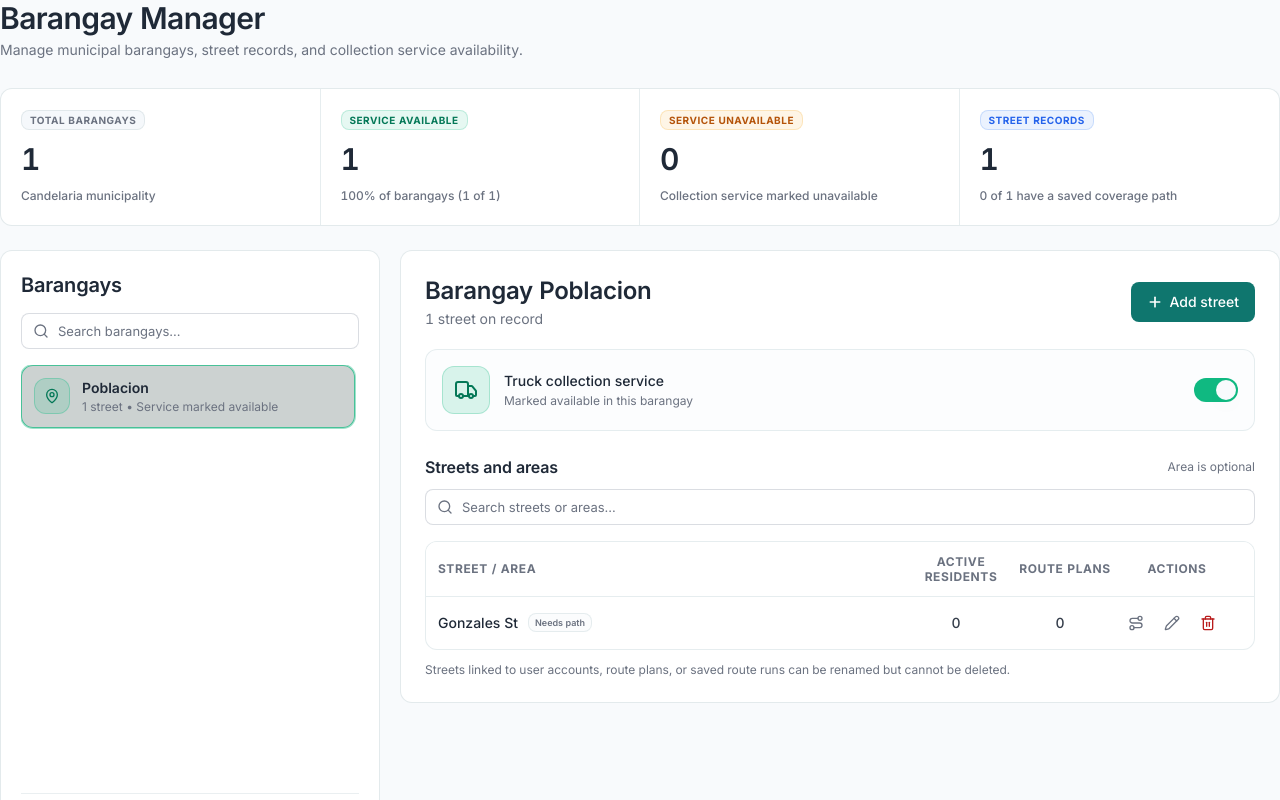
Test: street editor unsaved changes › retains failed submissions and closes a successful save directly
The width and height of the screenshot is (1280, 800).
Step 1. Click the button "Add street" → click(1193, 302), box [1132,282,1255,322]
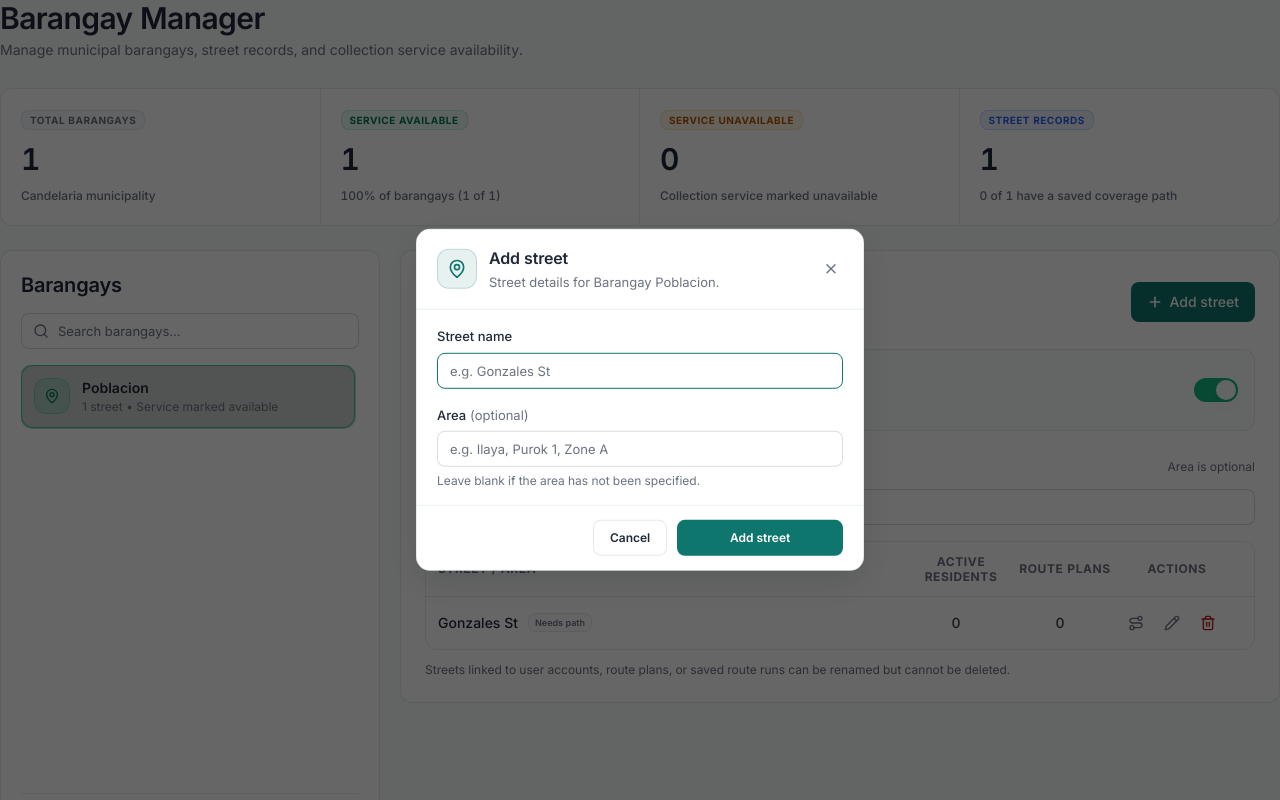
Step 2. Type "New street" into the field with id "barangay-street-name" → (640, 370), box [437,352,843,388]
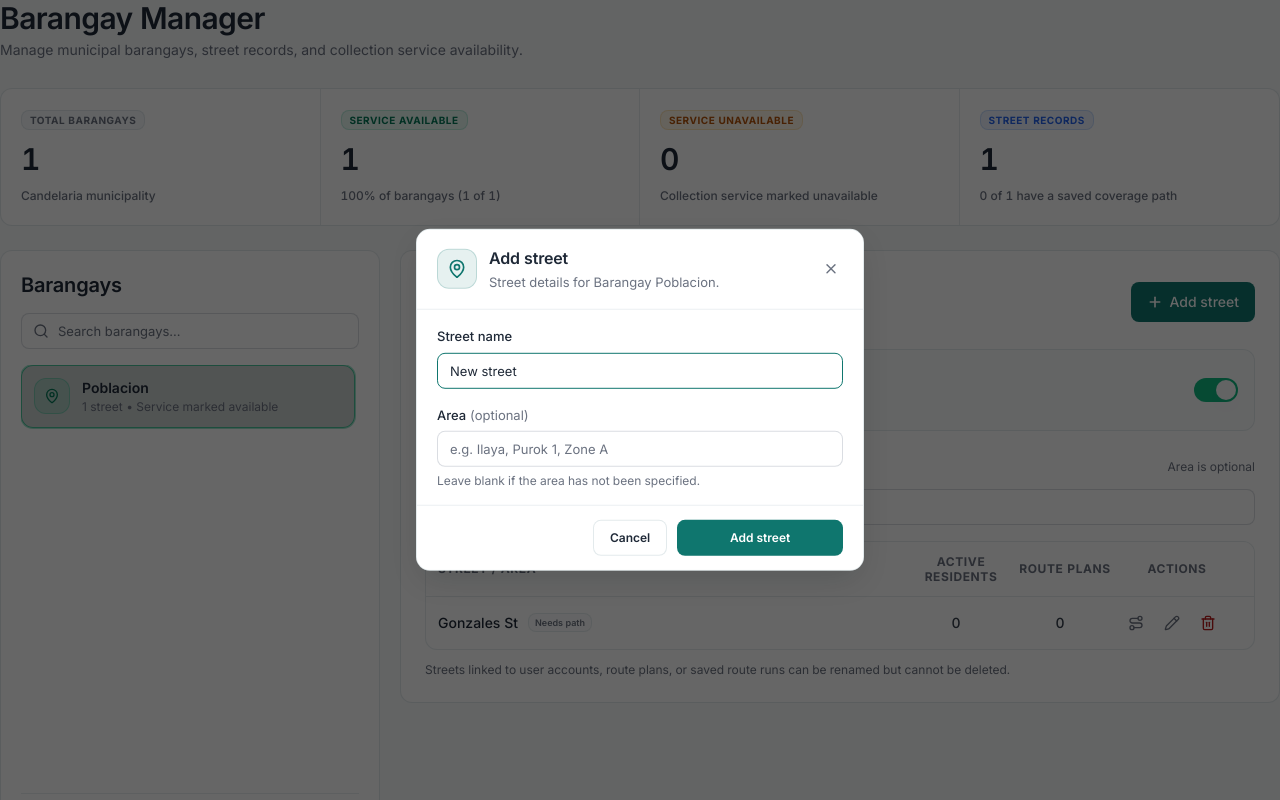
Step 3. Submit the form, box [437,326,843,489]
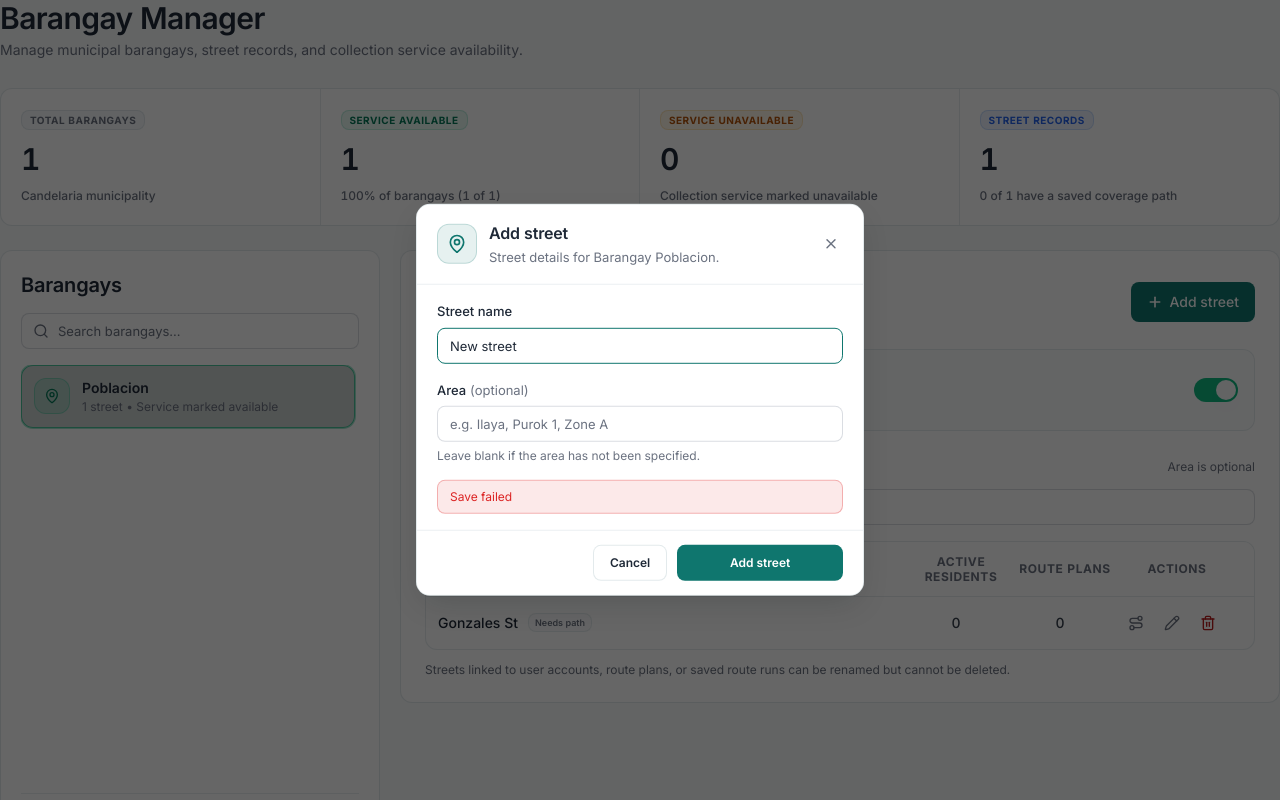
Result: the message "Save failed" is shown at [437,480,843,514]
Step 4. Submit the form, box [437,301,843,514]
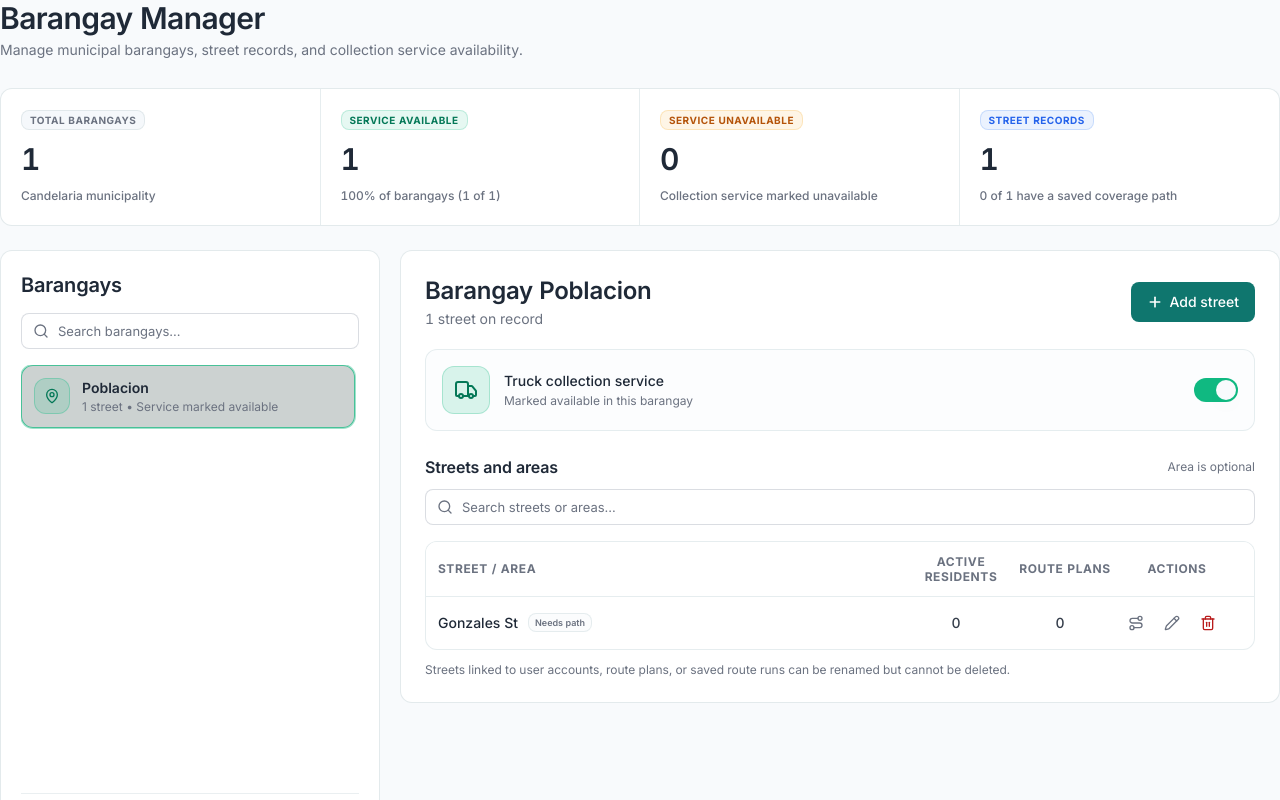
Result: the button is gone
